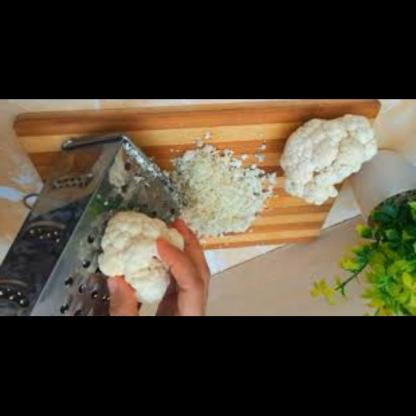cayliflower: (168, 144, 277, 248), (274, 111, 386, 209), (93, 203, 189, 314)
